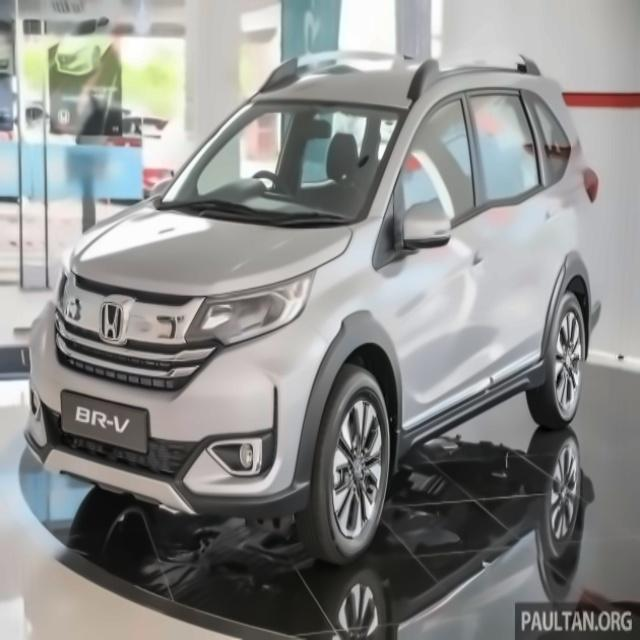Car hood: (57, 198, 354, 300)
Fender - -F-L-: (286, 220, 409, 490)
Fender - -R-L-: (508, 116, 621, 375)
Front bumper: (21, 310, 317, 524)
Headlight - -L-: (190, 258, 321, 356)
Passenger-s door - -F-L-: (393, 34, 493, 467)
Passenger-s door - -R-L-: (461, 45, 568, 421)
Rear light - -L-: (579, 165, 603, 208)
Side bumper - -L-: (375, 347, 573, 489)
Side mirror - -L-: (395, 201, 455, 257)
